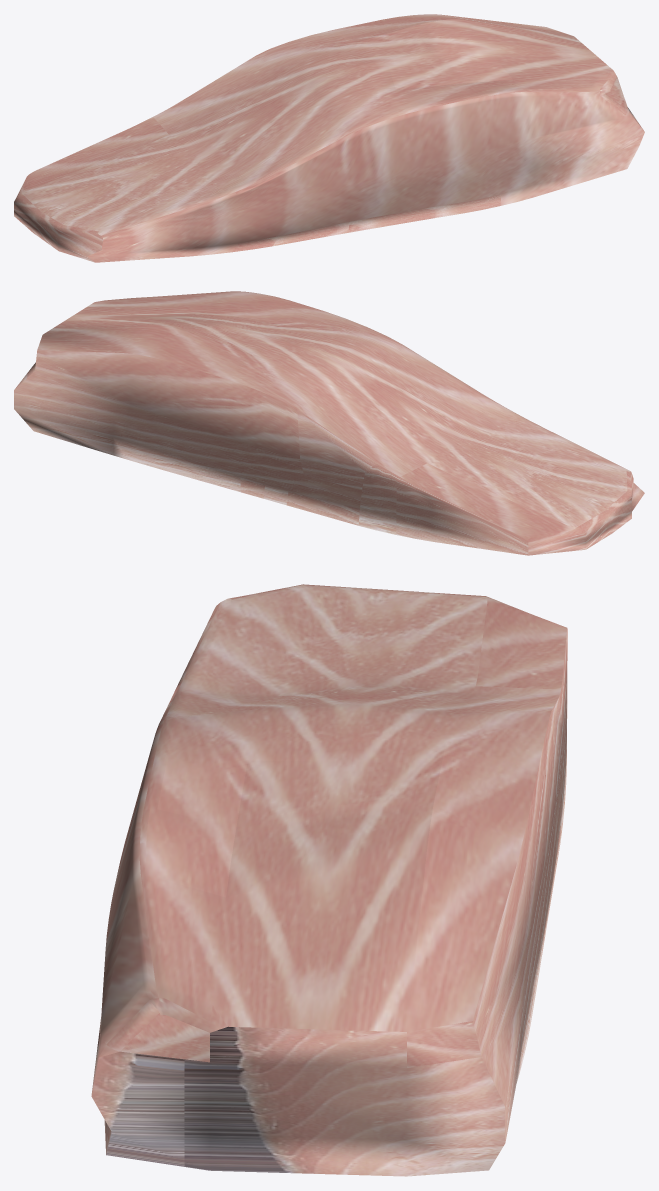
The model's file is fillet.glb.
The picture shows the model from 3 angles, top to bottom: view 1: azimuth 30°, elevation 25°; view 2: azimuth 150°, elevation 25°; view 3: azimuth 270°, elevation 25°; orthographic projection. The views are drawn at different scales.
Visible parts, largest first — view 1: Cube; view 2: Cube; view 3: Cube.
Part boxes in pixels (x1,y1,x2,y2): Cube: (14,14,644,262); Cube: (14,291,644,555); Cube: (91,584,567,1176).
Bounding box in the file's own units: 2.2 × 0.4822 × 0.8283.
Materials: 1 (1 with a texture image).
